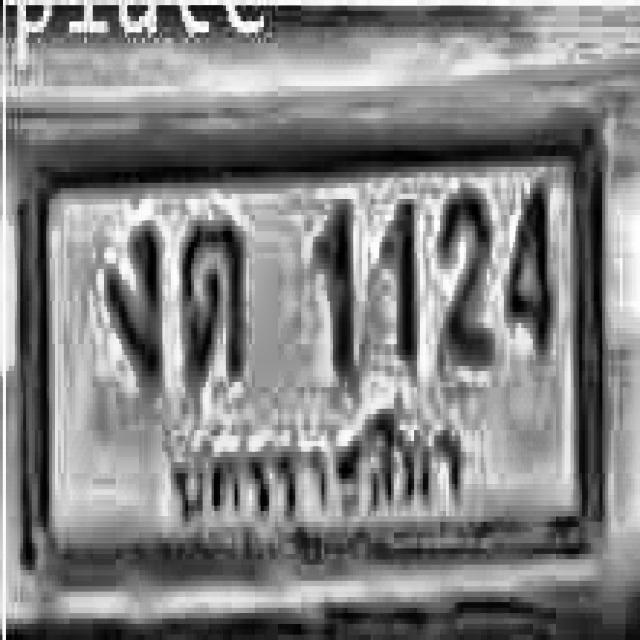license-plate: (13, 128, 613, 584)
